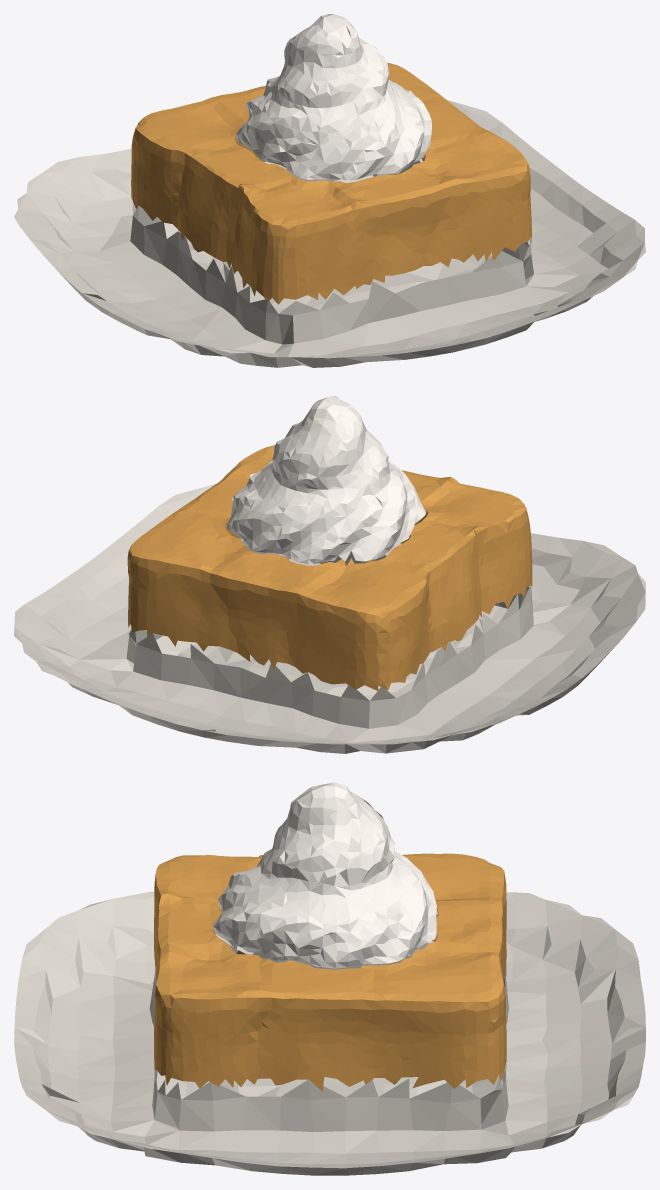
Rendered from HoneyBread.obj.
3 views of the same model, one above another, from view 1: azimuth 30°, elevation 25°; view 2: azimuth 150°, elevation 25°; view 3: azimuth 270°, elevation 25° (orthographic). The views are drawn at different scales.
Parts seen in each view (by area): view 1: Plate, Bread, Cream; view 2: Plate, Bread, Cream; view 3: Plate, Bread, Cream.
Part boxes in pixels (x1,y1,x2,y2): Plate: [14, 100, 645, 367]; Bread: [131, 62, 531, 304]; Cream: [236, 14, 431, 180]; Plate: [14, 484, 645, 753]; Bread: [127, 445, 532, 690]; Cream: [227, 396, 426, 564]; Plate: [14, 891, 645, 1175]; Bread: [154, 853, 506, 1091]; Cream: [213, 782, 437, 968].
Bounding box in the file's own units: 4.95 × 2.48 × 4.95.
